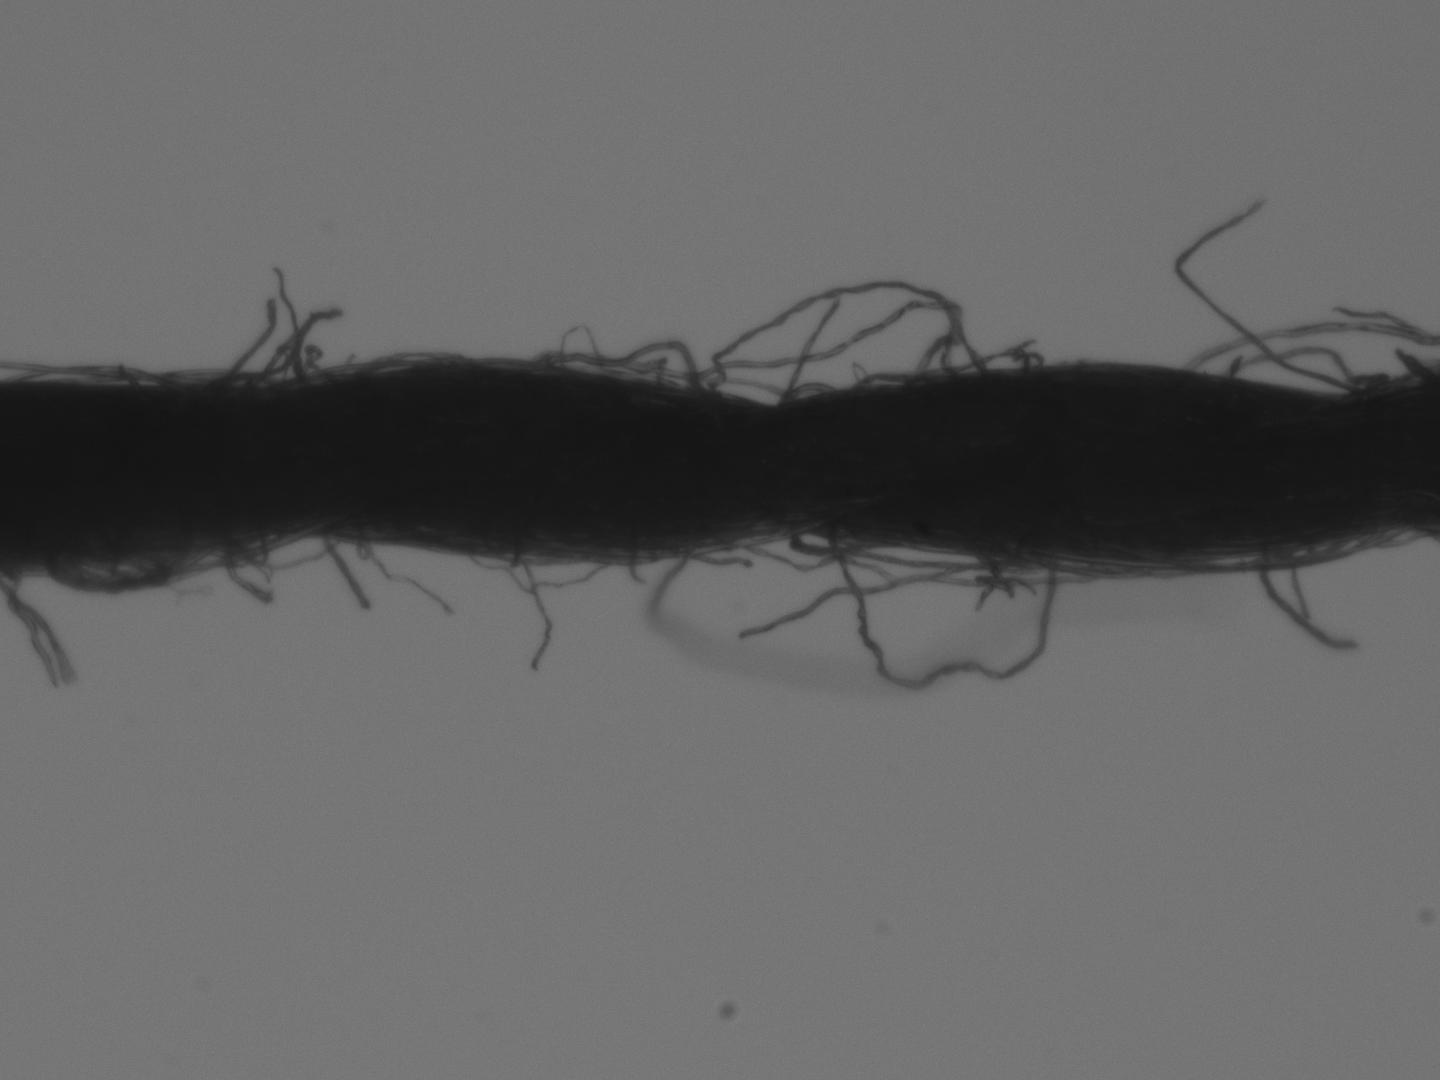loop_fiber: (830, 534, 1059, 692), (708, 276, 960, 405), (700, 298, 963, 405), (1065, 528, 1388, 574), (540, 335, 702, 390), (738, 528, 886, 575), (136, 531, 306, 572), (42, 551, 194, 593), (914, 334, 993, 387), (346, 347, 461, 379), (9, 360, 156, 381), (786, 529, 859, 556), (781, 382, 831, 408)
protruding_fiber: (1177, 200, 1346, 395), (740, 554, 983, 636), (1257, 548, 1363, 653), (789, 301, 841, 398), (219, 294, 273, 383), (319, 537, 367, 610), (279, 268, 299, 378)
